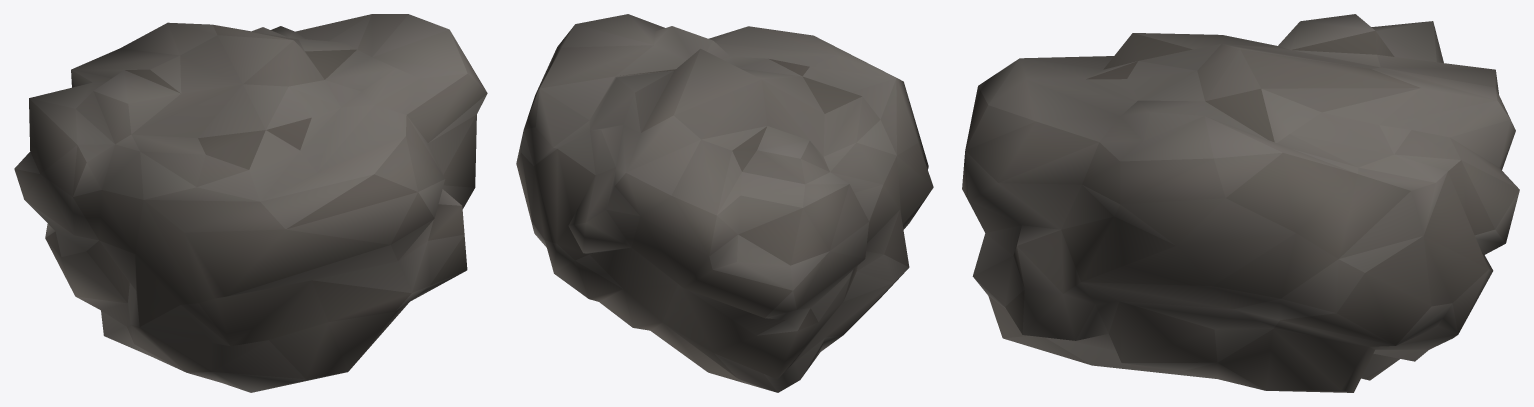
3 views of the same model, side by side, from view 1: azimuth 30°, elevation 25°; view 2: azimuth 150°, elevation 25°; view 3: azimuth 270°, elevation 25° (orthographic). The views are drawn at different scales.
Visible parts, largest first — view 1: Rock_flat2_LP:polySurface115; view 2: Rock_flat2_LP:polySurface115; view 3: Rock_flat2_LP:polySurface115.
Boxes of the visible parts, x1=… form: Rock_flat2_LP:polySurface115: x1=14, y1=14, x2=487, y2=392; Rock_flat2_LP:polySurface115: x1=516, y1=14, x2=933, y2=392; Rock_flat2_LP:polySurface115: x1=962, y1=14, x2=1519, y2=392.
Size of the model in its own units: 0.0493 by 0.0397 by 0.053.
